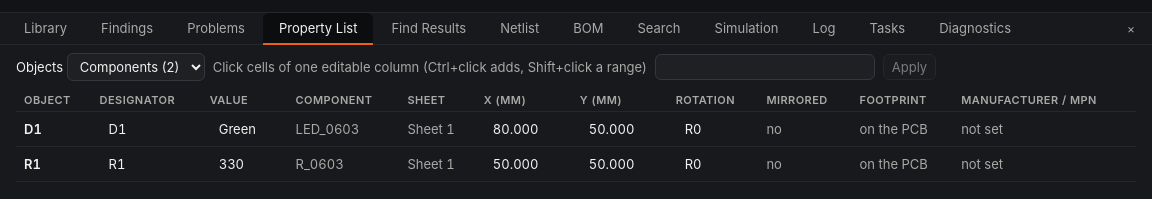
Test: Property List tab › Ctrl+click adds and removes cells of one column; a click in another column starts over
Click the button named "R1 Value" at (245, 164), box top-left (210, 151), bottom-right (280, 177)
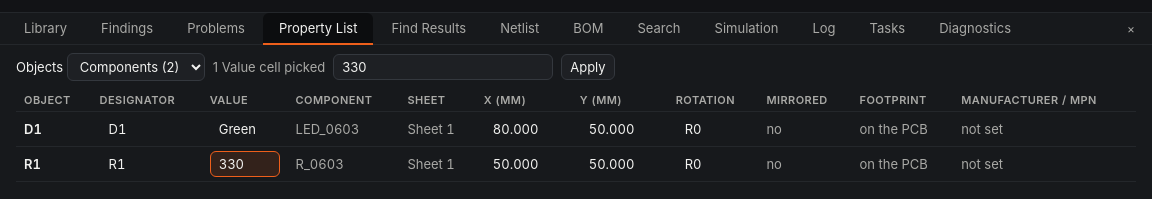
Click the button with aria-label "D1 Value" at (245, 129), box top-left (210, 116), bottom-right (280, 142)
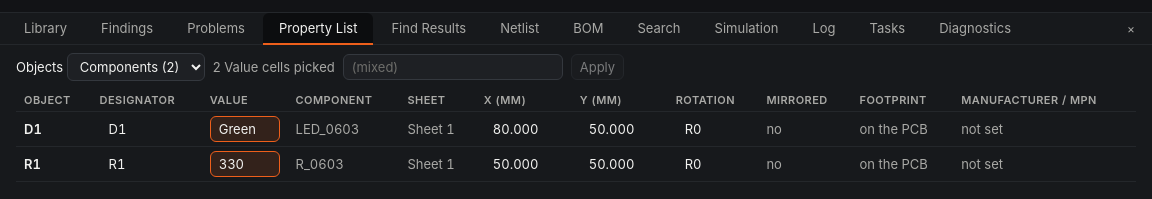
expect the text named "Batch selection" reads "2 Value cells picked": met, box top-left (213, 59), bottom-right (335, 75)
Click the button with aria-label "D1 Value" at (245, 129), box top-left (210, 116), bottom-right (280, 142)
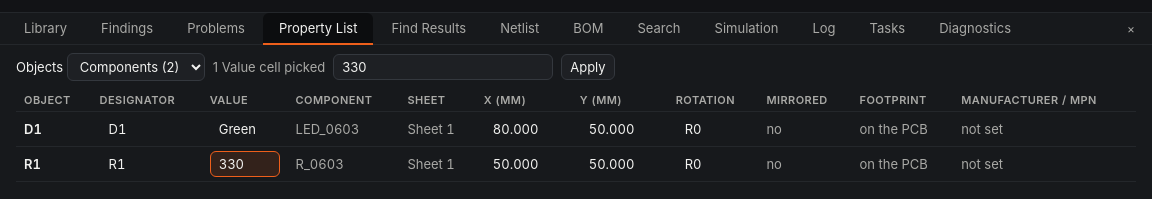
expect the text named "Batch selection" reads "1 Value cell picked": met, box top-left (213, 59), bottom-right (325, 75)
Click the button named "D1 Rotation" at (713, 129), box top-left (676, 116), bottom-right (750, 142)
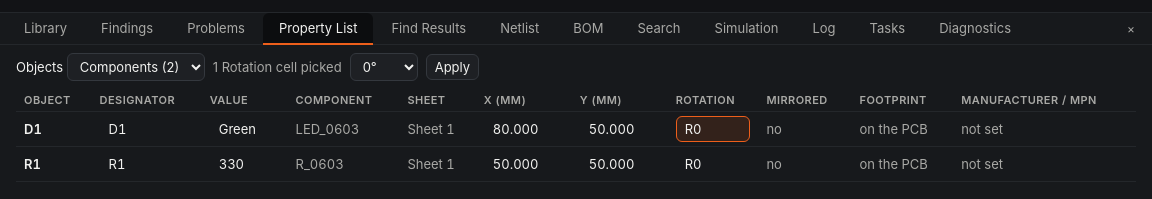
expect the text named "Batch selection" reads "1 Rotation cell picked": met, box top-left (213, 59), bottom-right (342, 75)
